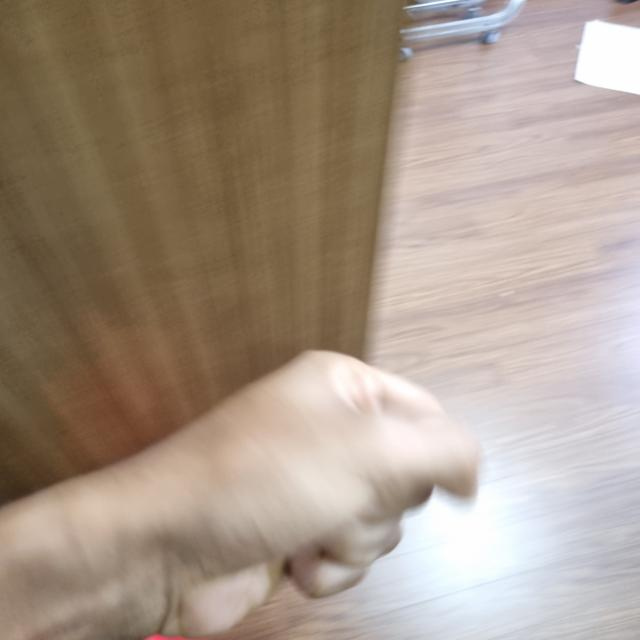Rock: (107, 355, 473, 625)
